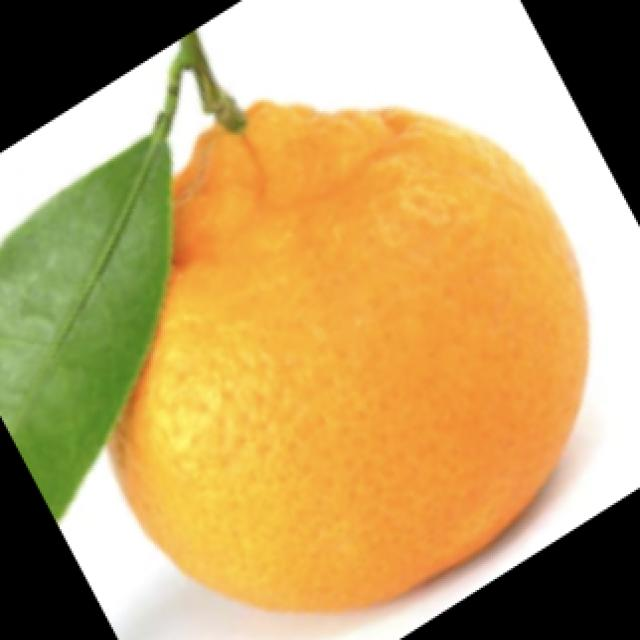fresh: (3, 37, 595, 626)
